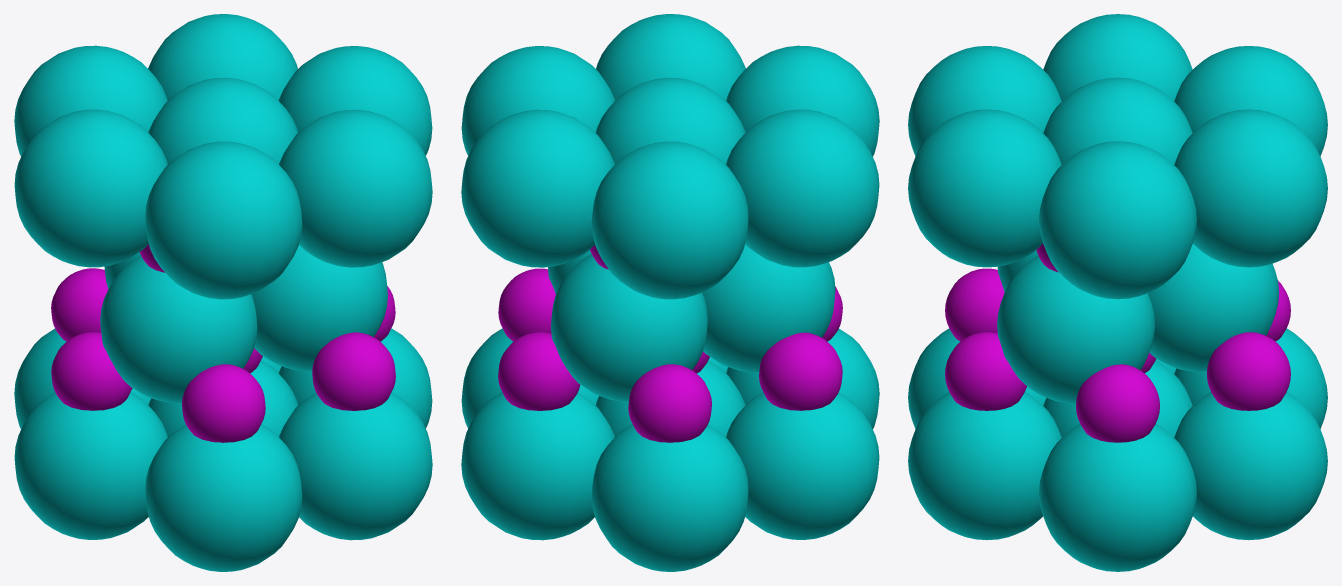
Rendered from wurtzitagordo_centrado.glb.
The picture shows the model from 3 angles, left to right: view 1: azimuth 30°, elevation 25°; view 2: azimuth 150°, elevation 25°; view 3: azimuth 270°, elevation 25°; orthographic projection.
Parts seen in each view (by area): view 1: abajo19; view 2: abajo19; view 3: abajo19.
Boxes of the visible parts, bbox=[...] form: abajo19: bbox=[14, 14, 432, 571]; abajo19: bbox=[461, 14, 879, 571]; abajo19: bbox=[908, 14, 1327, 571].
Size of the model in its own units: 3.05 by 3.05 by 2.79.
